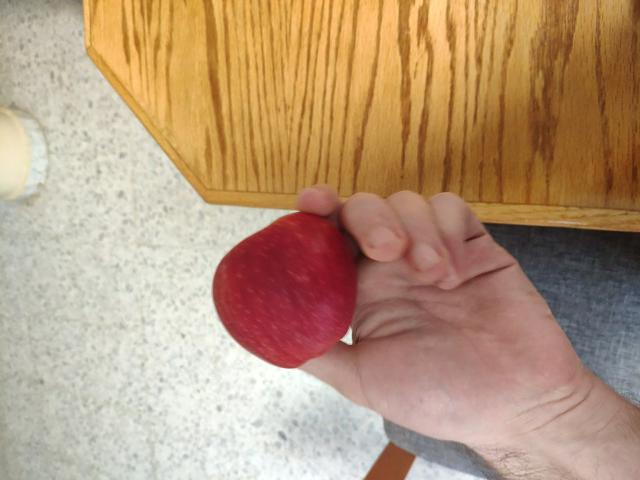apple: (210, 220, 353, 367)
